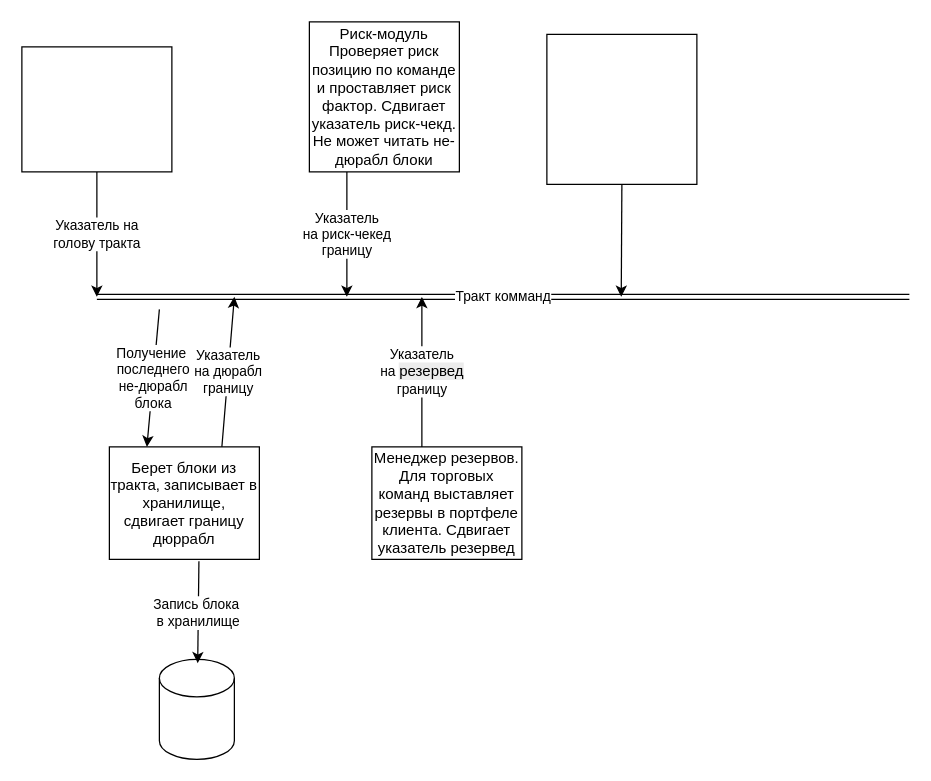
This 931x781 diagram has some shape labels left out. The box of each missing label's shape, as (x1, y1, x2, y2) in pixels:
Ингрес Берет команду с сетевого модуля и запихивает в голову тракта: (21, 46, 172, 172)
Матчер. Выгребает все блоки за резервед границей. сдвигает указатель ХВОСТ: (546, 33, 697, 184)
